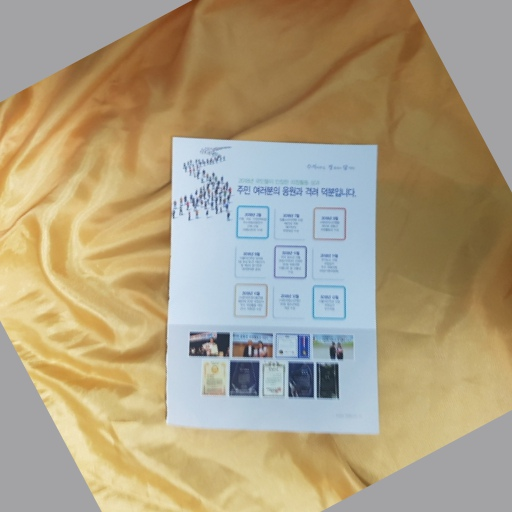Paper_2: (155, 120, 394, 449)
